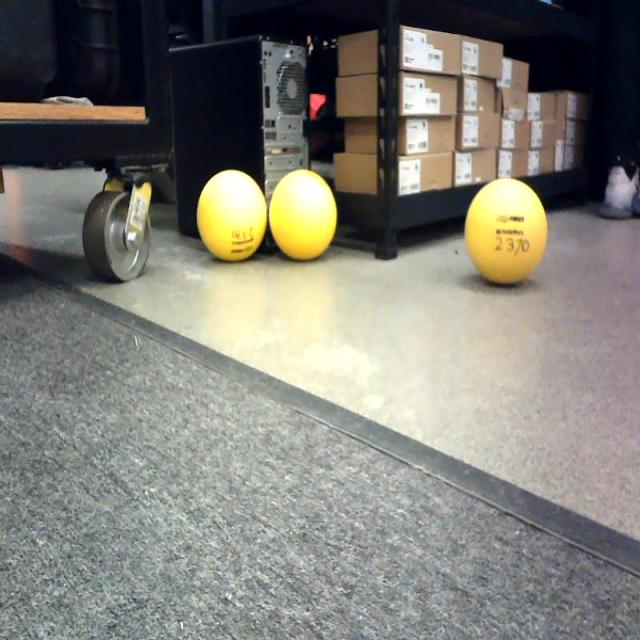Fuel: (465, 178, 547, 285), (197, 170, 267, 262), (269, 169, 337, 261)
